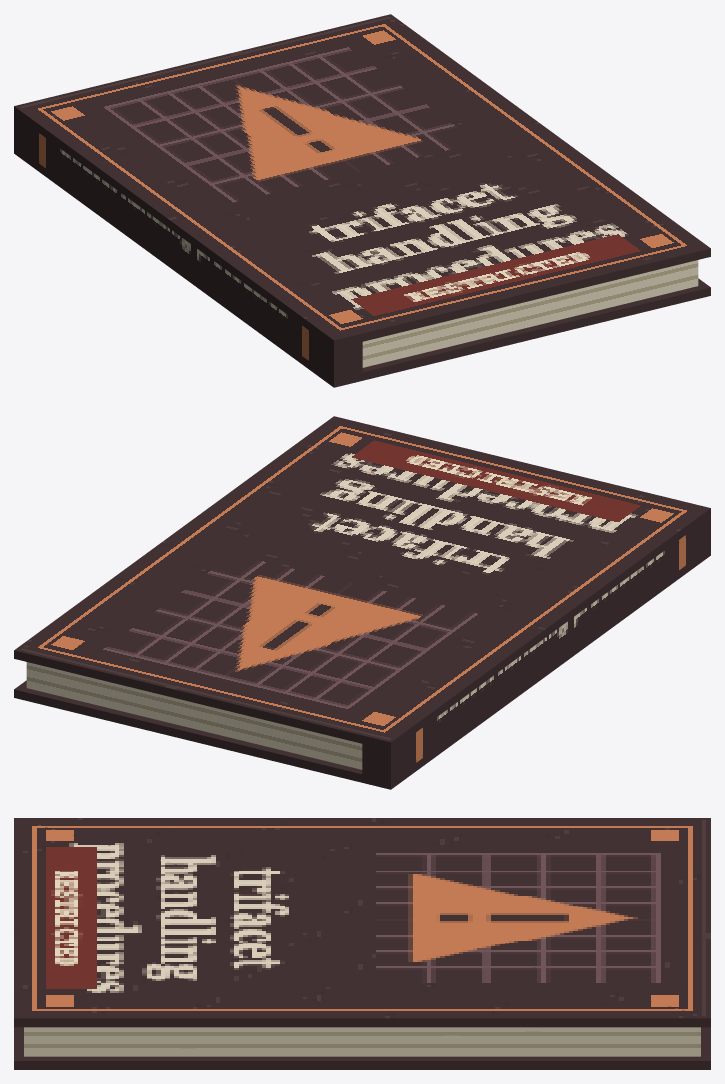
Rendered from robofac_yrax_trifacet_deactivation_manual.glb.
3 renders of one model, top to bottom at view 1: azimuth 30°, elevation 25°; view 2: azimuth 150°, elevation 25°; view 3: azimuth 270°, elevation 25°, orthographic. The views are drawn at different scales.
Parts seen in each view (by area): view 1: block_front cover, block_spine, block_page block, block_back cover; view 2: block_front cover, block_spine, block_page block, block_back cover; view 3: block_front cover, block_page block, block_back cover.
Part boxes in pixels (x1=…): block_front cover: x1=14, y1=14, x2=710, y2=348; block_spine: x1=14, y1=115, x2=362, y2=379; block_page block: x1=362, y1=260, x2=698, y2=367; block_back cover: x1=14, y1=145, x2=710, y2=387; block_front cover: x1=14, y1=416, x2=710, y2=750; block_spine: x1=362, y1=517, x2=710, y2=781; block_page block: x1=26, y1=662, x2=362, y2=769; block_back cover: x1=14, y1=547, x2=710, y2=789; block_front cover: x1=14, y1=818, x2=710, y2=1027; block_page block: x1=24, y1=1027, x2=700, y2=1056; block_back cover: x1=14, y1=1027, x2=710, y2=1069.
Size of the model in its own units: 0.1414 by 0.017 by 0.208.
Materials: 1 (1 with a texture image).
